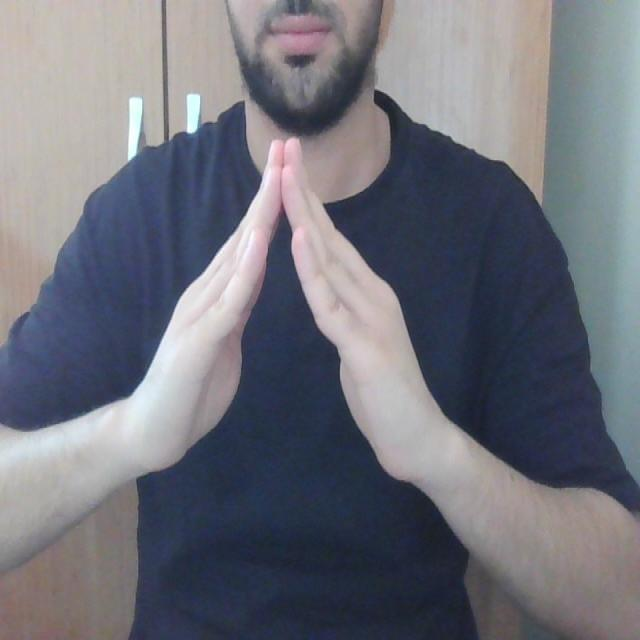Ev: (126, 126, 435, 495)
